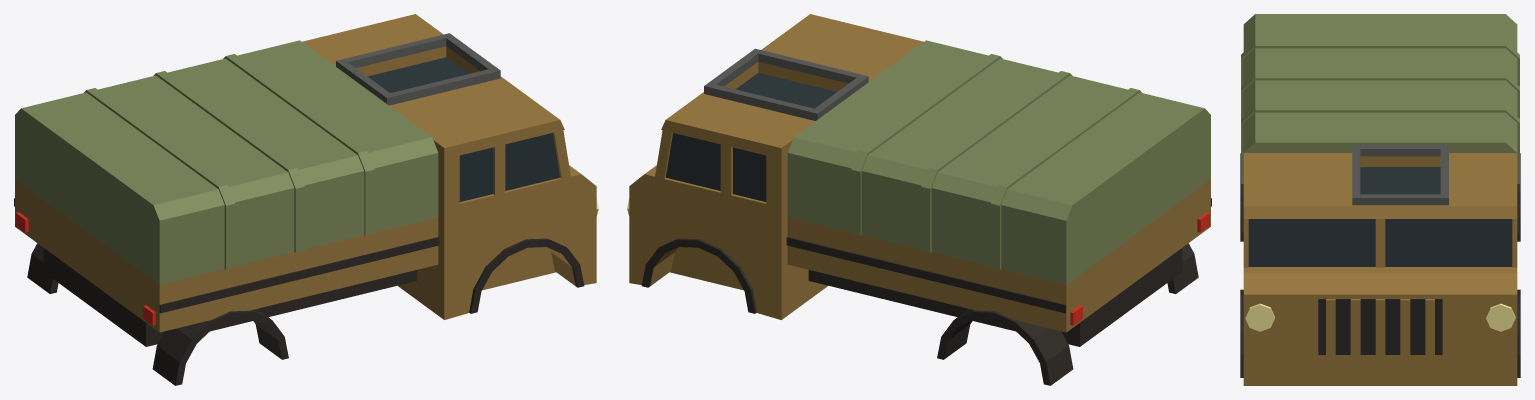
The model's file is base_hauler.glb.
3 views of the same model, side by side, from view 1: azimuth 30°, elevation 25°; view 2: azimuth 150°, elevation 25°; view 3: azimuth 270°, elevation 25° (orthographic). The views are drawn at different scales.
Parts seen in each view (by area): view 1: base_hauler; view 2: base_hauler; view 3: base_hauler.
Boxes of the visible parts, <box> form: base_hauler: <box>14,14,598,385</box>; base_hauler: <box>627,14,1211,385</box>; base_hauler: <box>1240,14,1520,385</box>.
Size of the model in its own units: 5.85 by 2.3 by 3.39.
